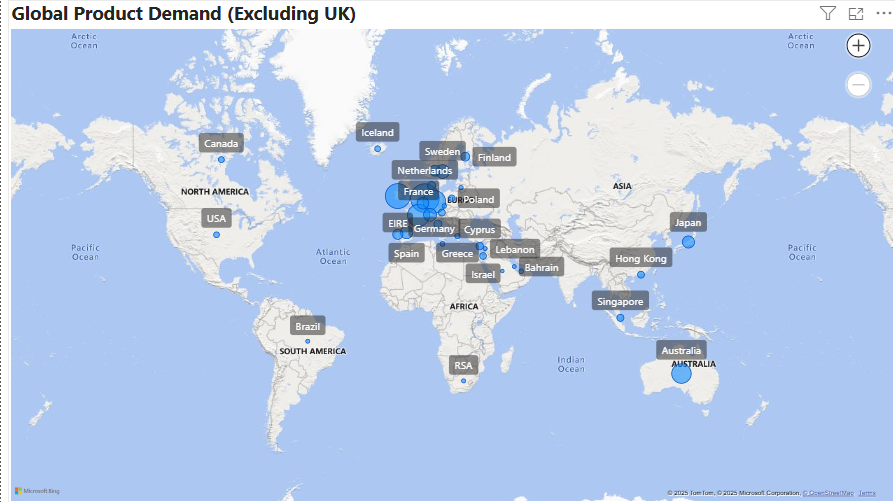

The dashboard page shown, as its layout file describes it:
{"tool":"powerbi","page":{"name":"Q-4 Global Demand Map","canvas":[1280,720],"ordinal":4},"visuals":[{"type":"map","title":"Global Product Demand (Excluding UK)","fields":{"Category":["Online Retail.Country"],"Size":["Online Retail.Total Demand"]},"box":[10.1,0,1269.9,720.6],"z":0}]}

Visuals, with their boxes in screenshot pixels (x1, y1, x2, y2), scaled from the page's 1280x720 canvas onto the 895x502 screenshot:
"Global Product Demand (Excluding UK)" map: BBox(7, 0, 894, 501)
